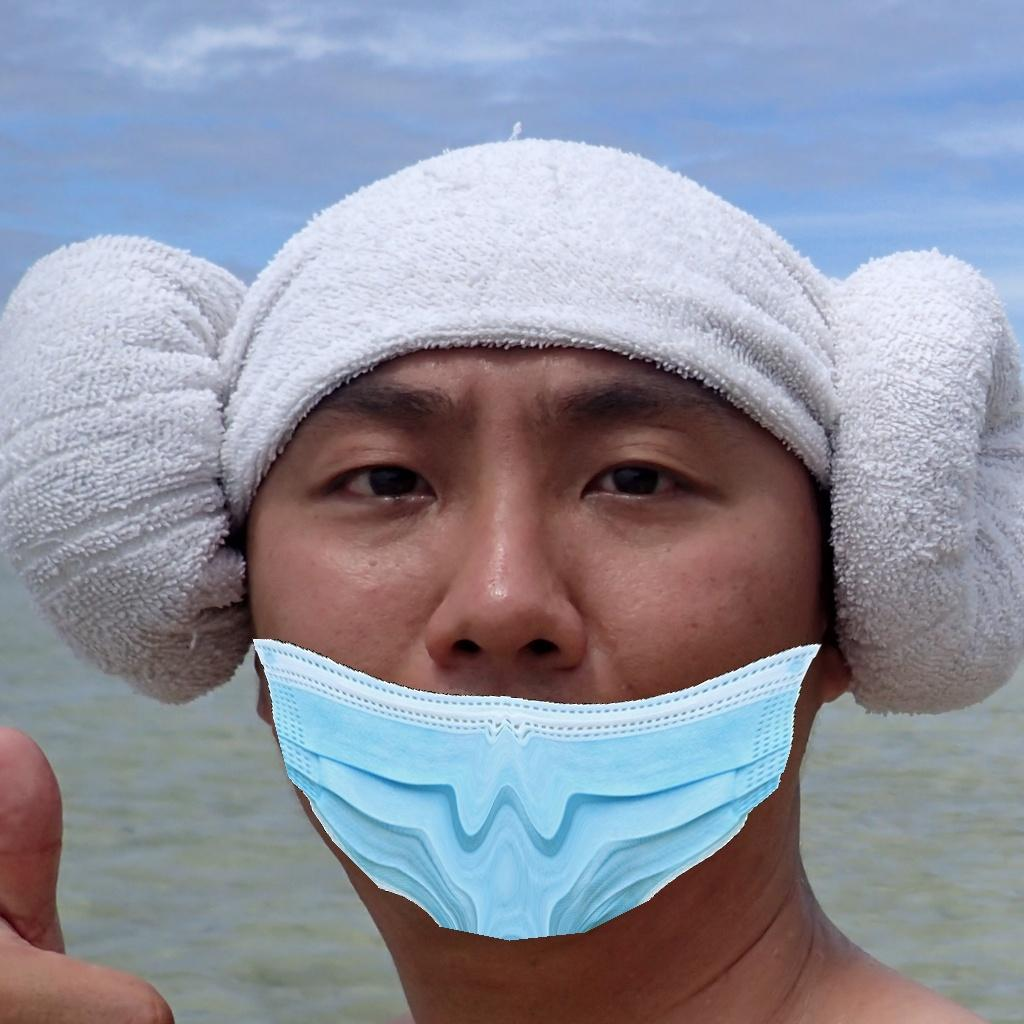Máscara Incorreta: (209, 303, 841, 943)
